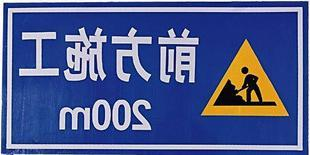sign: (6, 4, 305, 152)
